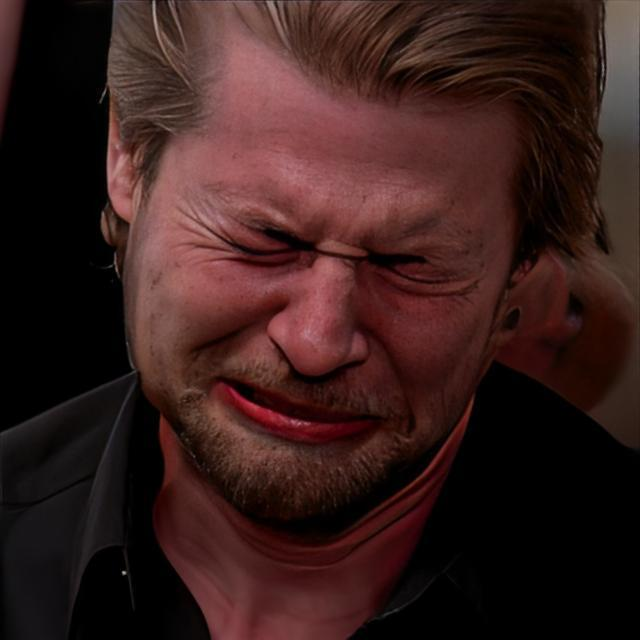sad: (120, 21, 518, 542)
